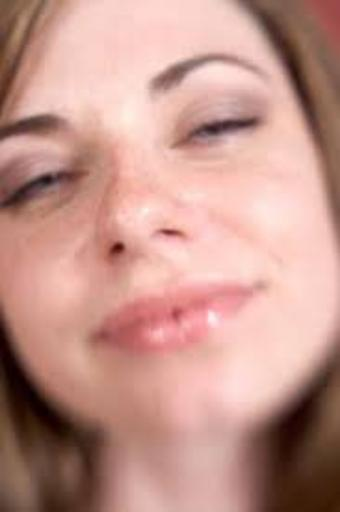left_eye: (181, 115, 261, 151)
left_lip_corner: (246, 271, 274, 304)
right_eye: (5, 161, 90, 217)
right_lip_corner: (82, 318, 109, 352)
